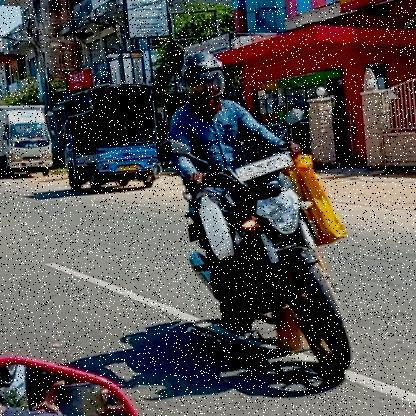motorcycle: (164, 140, 377, 412)
